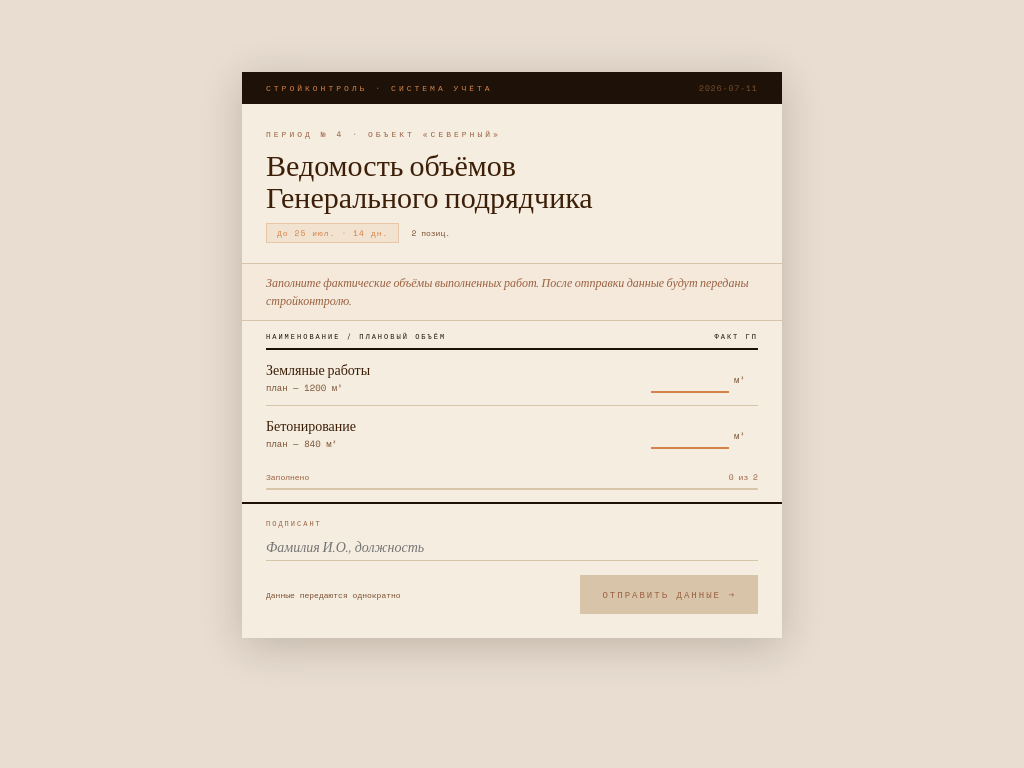
it: GpFormPage › показывает SuccessState после успешной отправки
Type "1150" into the number field with test id "gp-volume-input" in the row of "Земляные работы" at coordinates (690, 378), box [651,362,729,392]
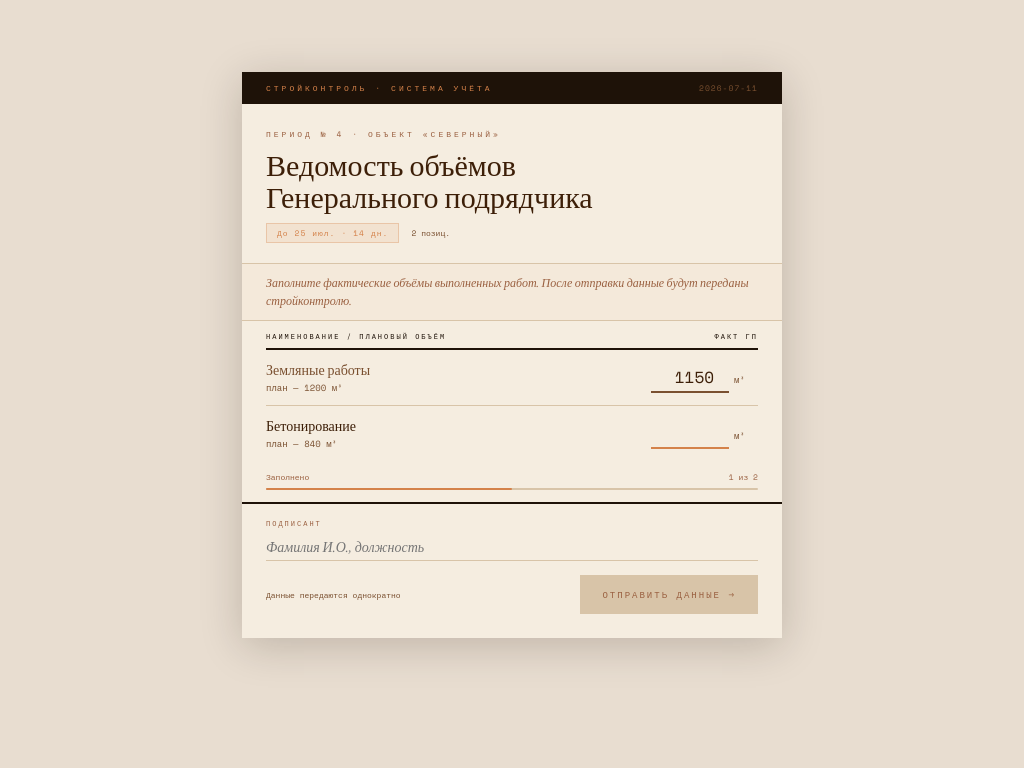
Type "800" into the number field with test id "gp-volume-input" in the row of "Бетонирование" at coordinates (690, 434), box [651,418,729,448]
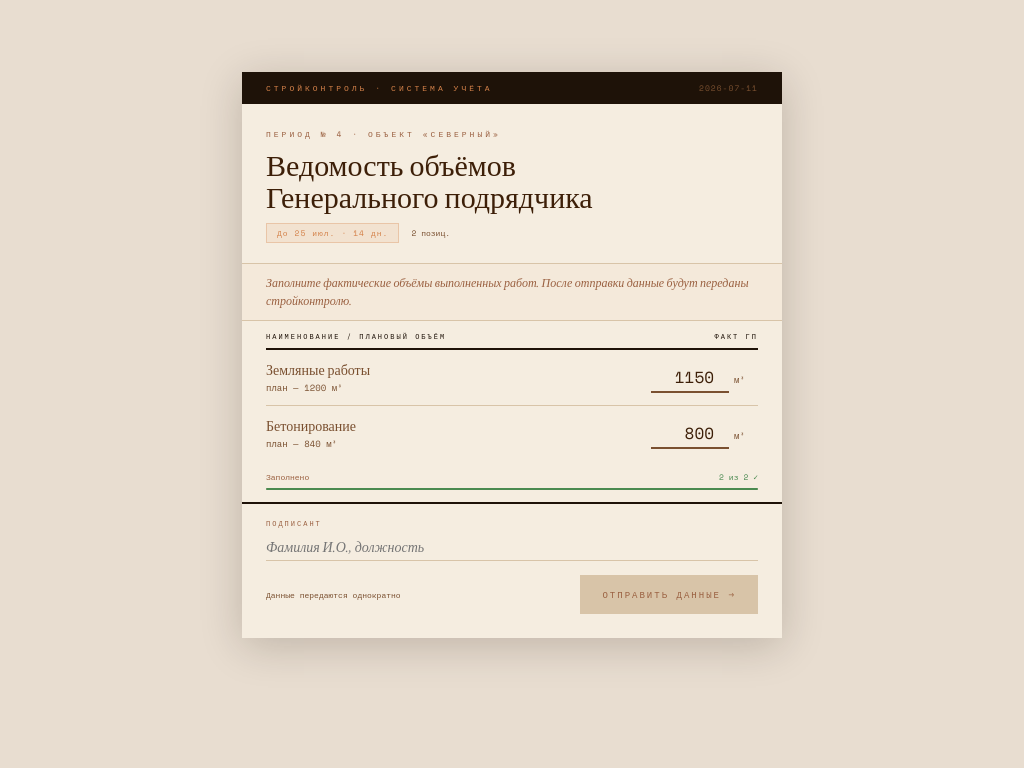
Type "Иванов" into the field with test id "gp-name-input" at coordinates (512, 548), box [266,534,758,561]
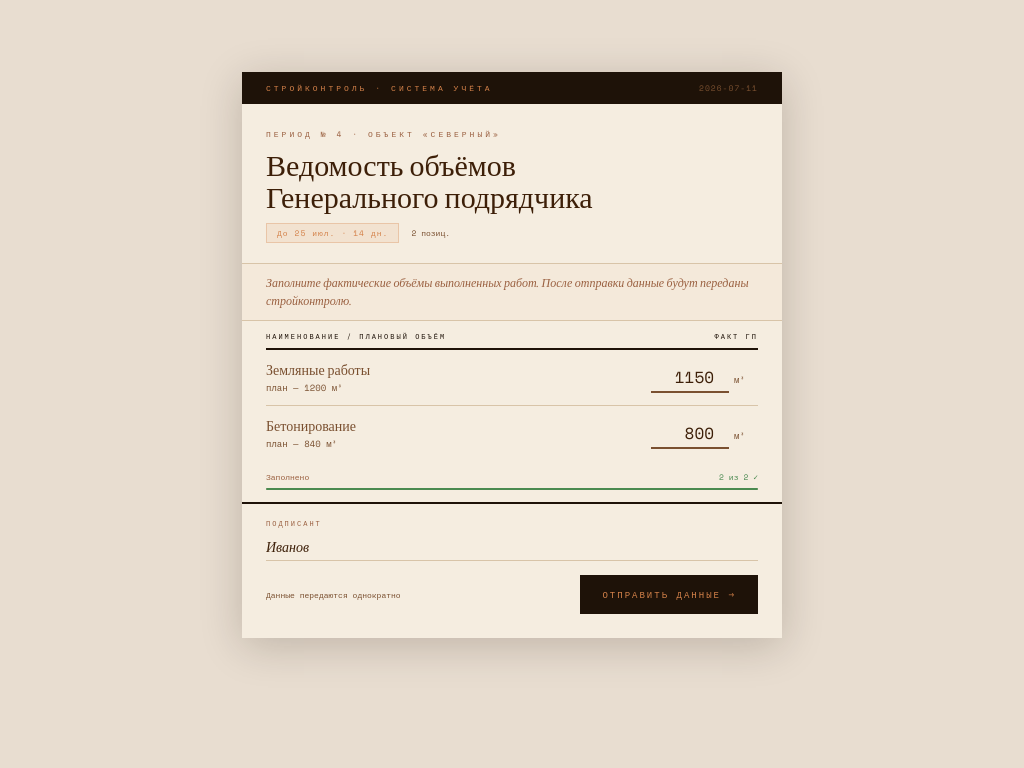
Click the button with test id "gp-submit-btn" at coordinates (669, 594), box [580,575,758,614]
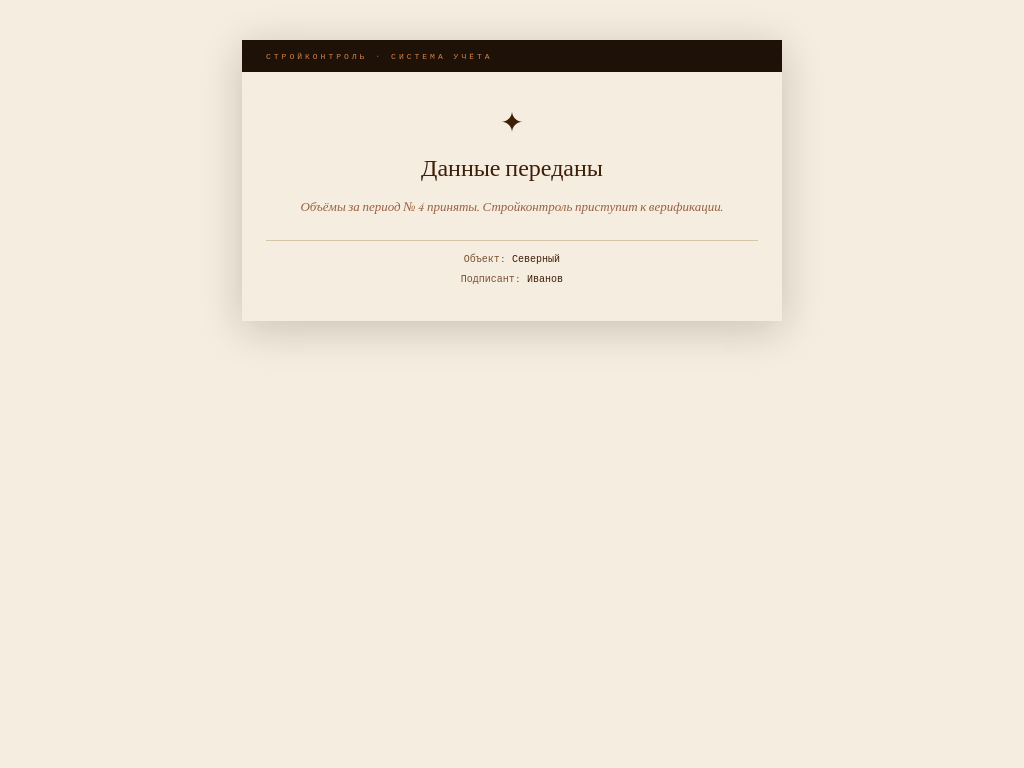
Now the element with test id "gp-success" is shown, box [242,40,782,321]
